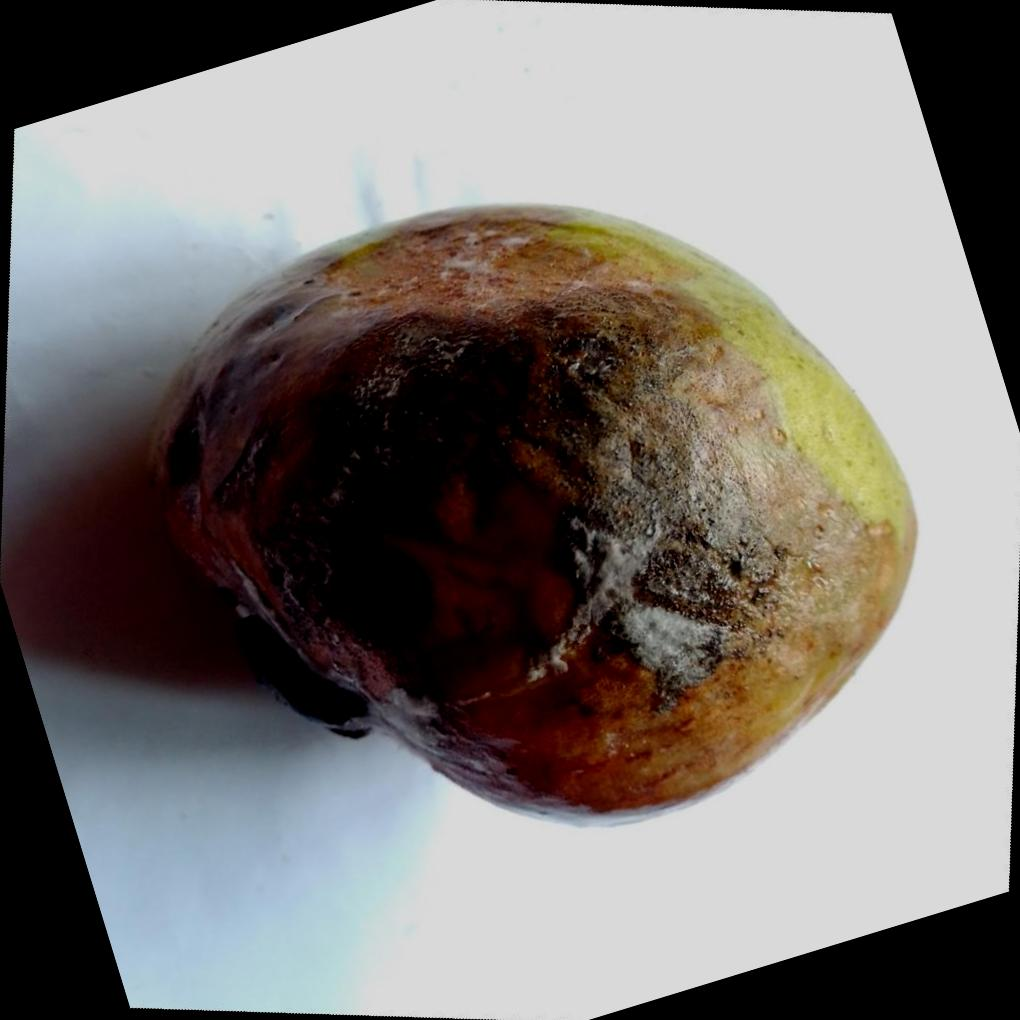FreshOrange: (141, 203, 918, 827)
